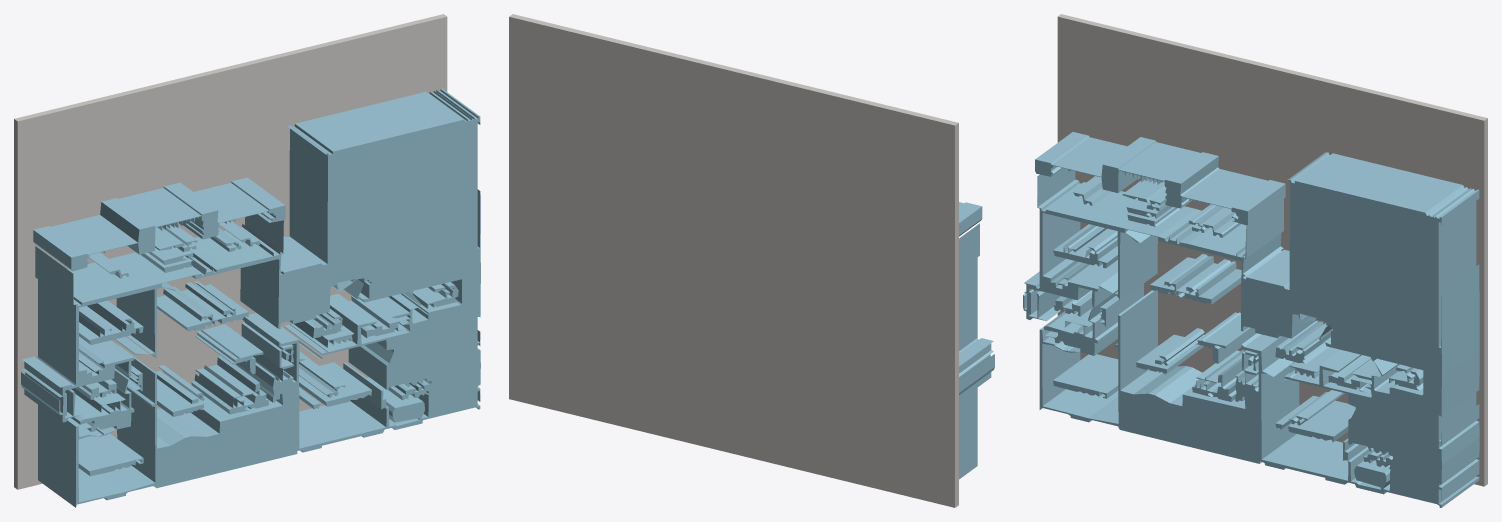
3 views of the same model, side by side, from view 1: azimuth 30°, elevation 25°; view 2: azimuth 150°, elevation 25°; view 3: azimuth 330°, elevation 25° (orthographic). The views are drawn at different scales.
Parts seen in each view (by area): view 1: world; view 2: world; view 3: world.
Part boxes in pixels (bbox=[...]): world: bbox=[14, 14, 480, 507]; world: bbox=[509, 14, 994, 507]; world: bbox=[1023, 14, 1487, 507].
Size of the model in its own units: 10.23 by 8.38 by 1.72.
